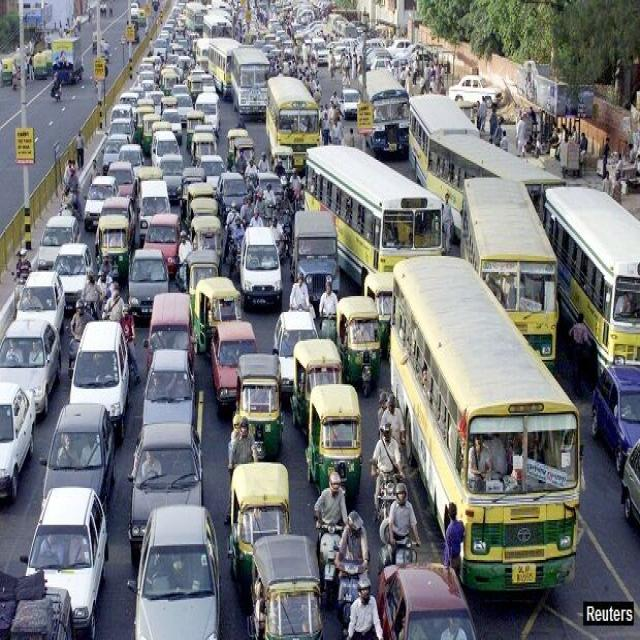Vehicles: (378, 252, 584, 628), (459, 170, 592, 384), (300, 146, 449, 317), (543, 154, 640, 387), (24, 481, 118, 632), (125, 405, 209, 566), (142, 513, 221, 640), (370, 554, 476, 640), (313, 382, 376, 526), (51, 388, 115, 524), (245, 528, 319, 640), (233, 458, 296, 584), (265, 71, 336, 178), (273, 298, 336, 418), (326, 282, 391, 398), (293, 347, 356, 462), (3, 310, 66, 420), (73, 317, 133, 429), (153, 346, 213, 455), (582, 350, 640, 457), (232, 362, 288, 472), (360, 61, 418, 165), (212, 324, 268, 420), (232, 223, 286, 317), (194, 273, 250, 361), (63, 154, 126, 232), (2, 380, 43, 496), (152, 283, 200, 374), (15, 262, 71, 335), (59, 234, 100, 330), (42, 211, 85, 291), (128, 252, 171, 330), (233, 46, 278, 120), (98, 223, 138, 290), (206, 26, 242, 99), (450, 68, 507, 114), (337, 552, 362, 640), (228, 113, 262, 175), (318, 518, 342, 594), (55, 37, 91, 85), (154, 123, 187, 166), (138, 176, 166, 224), (186, 253, 226, 286), (337, 83, 365, 117), (195, 126, 221, 161), (185, 66, 205, 99), (30, 44, 48, 76), (312, 34, 331, 64)
